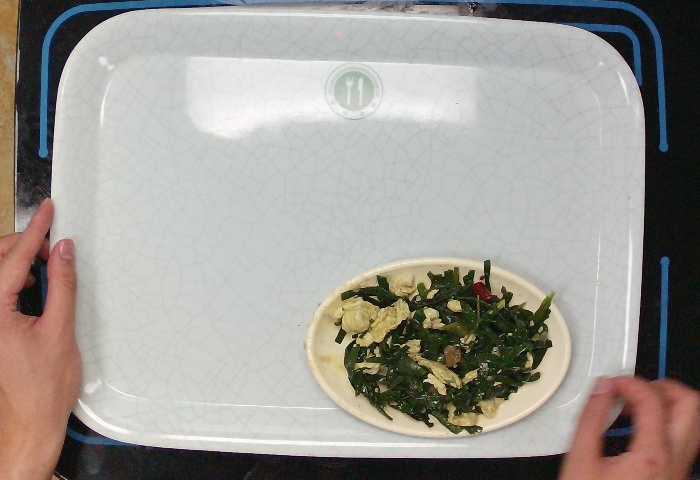JYsf-Tuo_Yuan_Wan: (299, 256, 579, 441)
